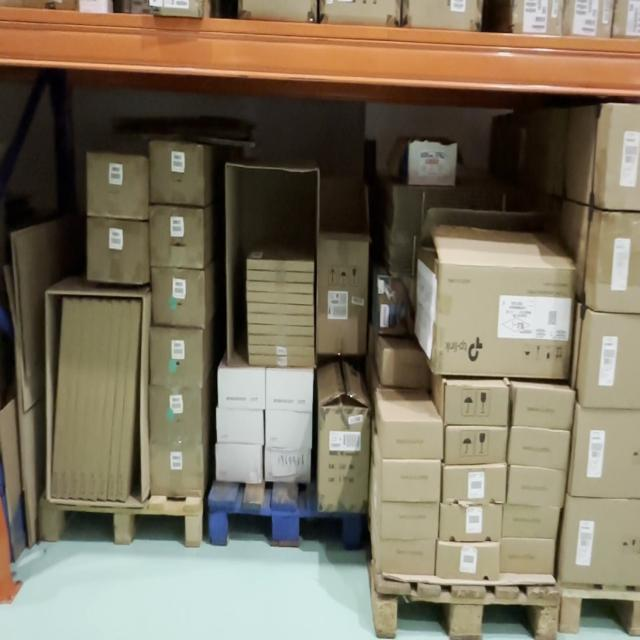box: (435, 263, 575, 379), (561, 497, 640, 586), (572, 408, 640, 500), (317, 240, 367, 352), (584, 312, 640, 408), (70, 301, 95, 500), (320, 407, 367, 512), (117, 302, 141, 502), (98, 302, 122, 500), (108, 302, 131, 501), (88, 302, 111, 500), (596, 212, 640, 313), (51, 299, 73, 498), (61, 300, 82, 499), (81, 303, 102, 500), (87, 153, 145, 219), (87, 217, 145, 283), (605, 104, 640, 210), (150, 141, 204, 205), (149, 207, 204, 269), (149, 386, 202, 445), (152, 269, 204, 328), (151, 329, 203, 386), (149, 443, 203, 496), (513, 387, 575, 430), (508, 427, 570, 470), (446, 385, 508, 426), (507, 466, 567, 507), (383, 461, 440, 501), (443, 467, 505, 503), (440, 504, 501, 540), (409, 140, 457, 185), (383, 422, 442, 458), (502, 504, 560, 540), (381, 502, 437, 539), (436, 544, 500, 576), (500, 538, 556, 574), (446, 431, 506, 463), (266, 370, 312, 411), (379, 540, 434, 574), (218, 370, 265, 408), (266, 412, 312, 448), (217, 409, 263, 444), (265, 448, 311, 481), (217, 446, 261, 480), (249, 355, 314, 366), (247, 260, 314, 270), (248, 336, 314, 346), (247, 272, 314, 280), (247, 295, 313, 302), (248, 327, 314, 334), (248, 316, 313, 323), (247, 285, 313, 291), (248, 306, 313, 312), (249, 348, 314, 353)
